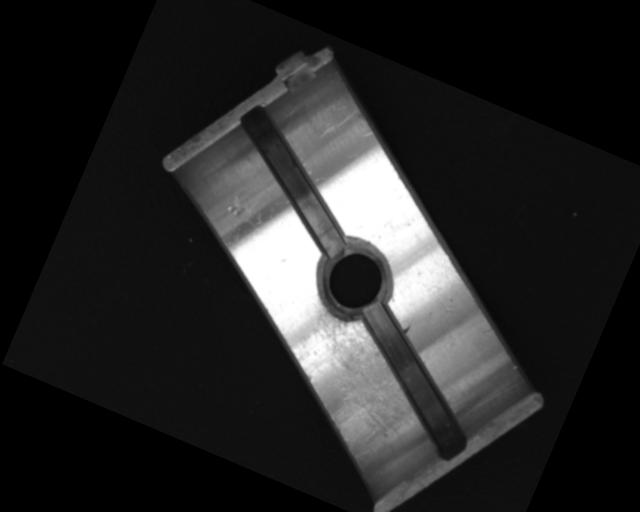bruise: (224, 193, 250, 220), (399, 320, 413, 336)
gap: (322, 298, 504, 463), (207, 103, 378, 258)
hole: (303, 227, 405, 330)
scratch: (263, 290, 443, 470)
